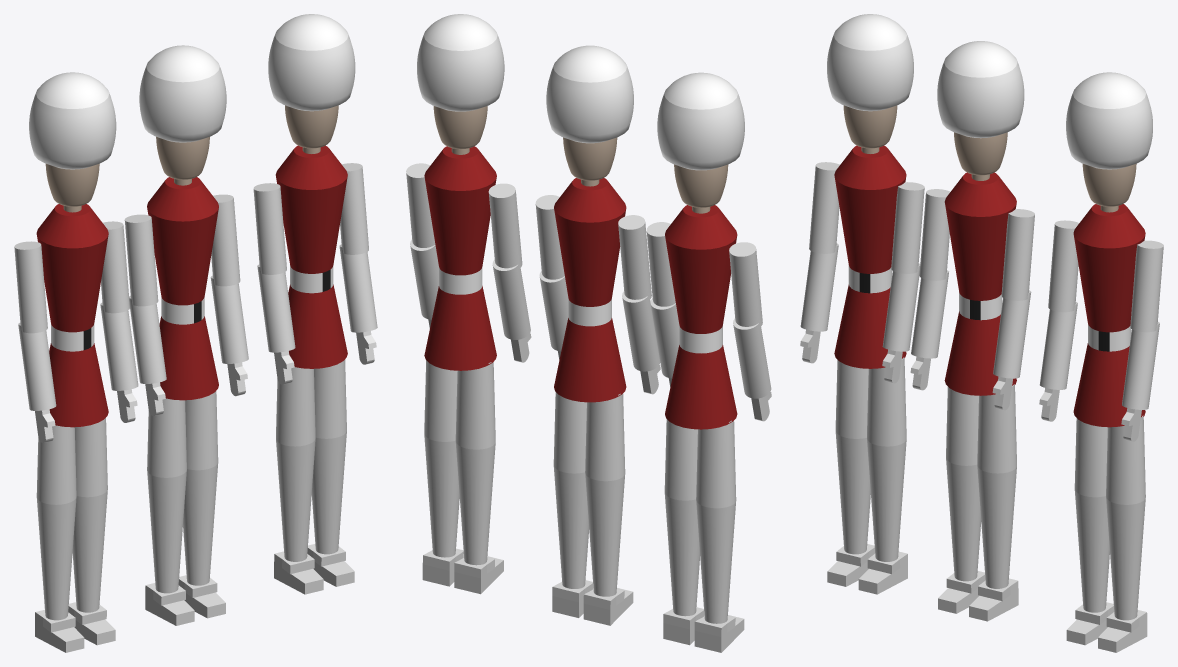
The model's file is dolls.fbx.
3 renders of one model, left to right at view 1: azimuth 30°, elevation 25°; view 2: azimuth 150°, elevation 25°; view 3: azimuth 330°, elevation 25°, orthographic.
Visible parts, largest first — view 1: Group_031, Group_018, Group_005, Group_025, Group_038, Group_012, Group_003, Group_029, Group_016, Group_014, Group_027, Group_001 (+24 smaller); view 2: Group_018, Group_005, Group_031, Group_025, Group_038, Group_012, Group_003, Group_029, Group_016, Group_001, Group_027, Group_014 (+18 smaller); view 3: Group_018, Group_005, Group_031, Group_029, Group_016, Group_003, Group_025, Group_038, Group_012, Group_027, Group_014, Group_001 (+24 smaller).
Part boxes in pixels (left/top/right/bottom): Group_031: left=29, top=72, right=116, bottom=332; Group_018: left=139, top=45, right=226, bottom=305; Group_005: left=268, top=14, right=355, bottom=273; Group_025: left=147, top=398, right=186, bottom=593; Group_038: left=36, top=425, right=76, bottom=620; Group_012: left=276, top=367, right=315, bottom=561; Group_003: left=311, top=359, right=346, bottom=554; Group_029: left=72, top=418, right=107, bottom=612; Group_016: left=183, top=391, right=218, bottom=585; Group_014: left=159, top=297, right=218, bottom=400; Group_027: left=49, top=324, right=108, bottom=427; Group_001: left=288, top=265, right=347, bottom=368; Group_018: left=546, top=45, right=633, bottom=306; Group_005: left=417, top=14, right=504, bottom=275; Group_031: left=657, top=72, right=744, bottom=333; Group_025: left=585, top=393, right=625, bottom=596; Group_038: left=696, top=420, right=736, bottom=623; Group_012: left=455, top=362, right=495, bottom=565; Group_003: left=424, top=360, right=459, bottom=557; Group_029: left=664, top=419, right=699, bottom=616; Group_016: left=553, top=392, right=589, bottom=588; Group_001: left=424, top=267, right=496, bottom=370; Group_027: left=665, top=325, right=737, bottom=429; Group_014: left=554, top=298, right=626, bottom=402; Group_018: left=937, top=41, right=1024, bottom=300; Group_005: left=1066, top=72, right=1152, bottom=332; Group_031: left=827, top=14, right=913, bottom=273; Group_029: left=867, top=357, right=906, bottom=561; Group_016: left=977, top=384, right=1016, bottom=588; Group_003: left=1106, top=415, right=1145, bottom=620; Group_025: left=946, top=386, right=981, bottom=581; Group_038: left=835, top=360, right=870, bottom=554; Group_012: left=1074, top=418, right=1109, bottom=612; Group_027: left=834, top=265, right=906, bottom=368; Group_014: left=944, top=292, right=1016, bottom=395; Group_001: left=1073, top=324, right=1145, bottom=427.
Size of the model in its own units: 7.38 by 11.44 by 1.65.
